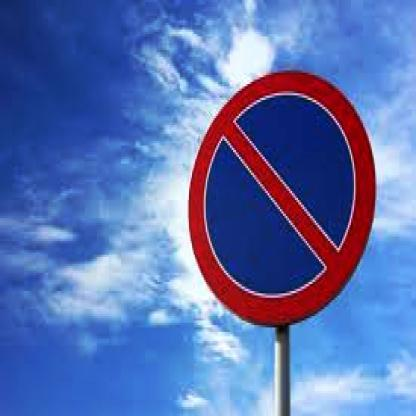No parking: (187, 69, 375, 320)
